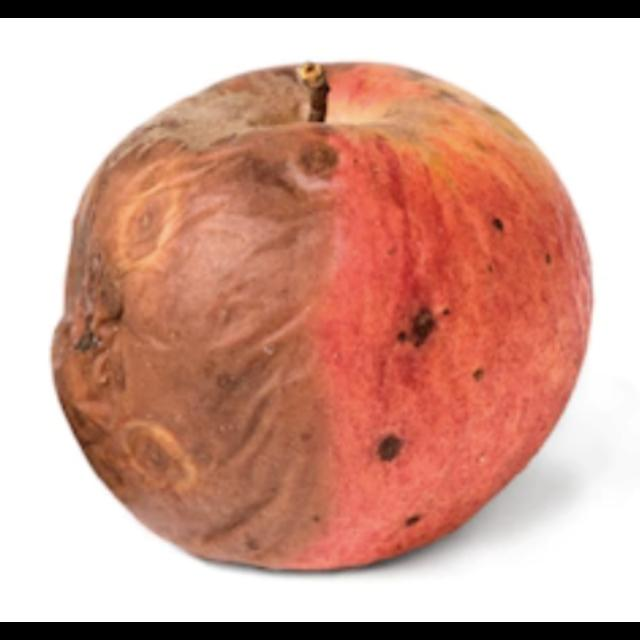Apel Tidak Segar: (43, 51, 601, 580)
